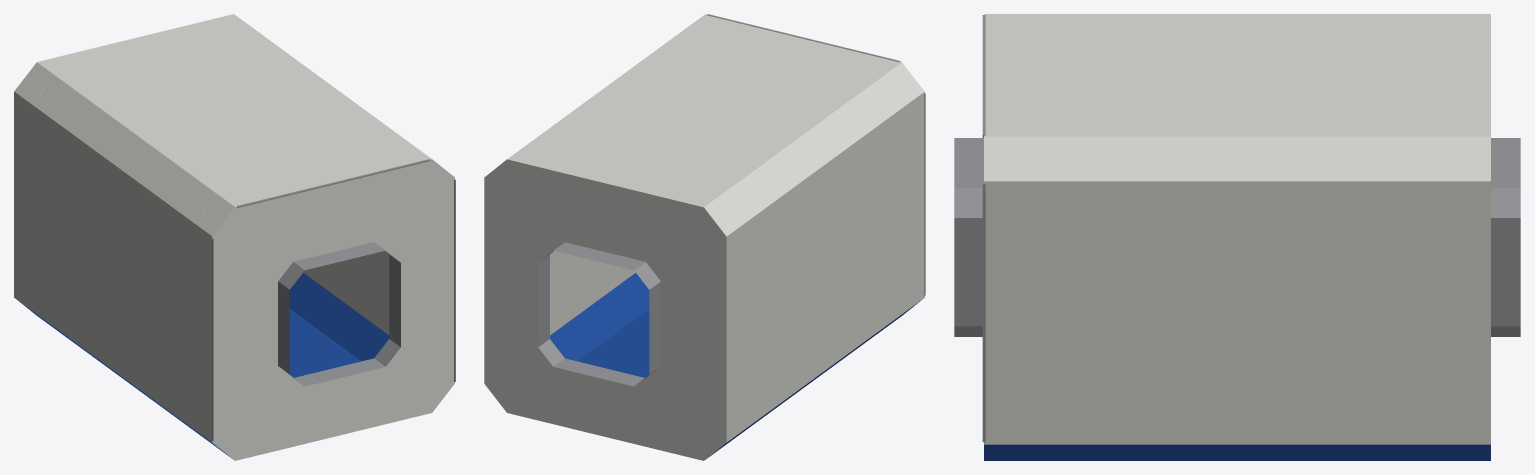
File: SM_Modulo_Colonia_Casco.fbx
The picture shows the model from 3 angles, left to right: view 1: azimuth 30°, elevation 25°; view 2: azimuth 150°, elevation 25°; view 3: azimuth 270°, elevation 25°; orthographic projection. The views are drawn at different scales.
Parts seen in each view (by area): view 1: SM_Modulo_Colonia_Casco; view 2: SM_Modulo_Colonia_Casco; view 3: SM_Modulo_Colonia_Casco.
Boxes of the visible parts, x1,y1,x2,y2 form: SM_Modulo_Colonia_Casco: (14,14,455,460); SM_Modulo_Colonia_Casco: (484,14,925,460); SM_Modulo_Colonia_Casco: (954,14,1520,460).
Bounding box in the file's own units: 2.41 × 2.4 × 3.8.
